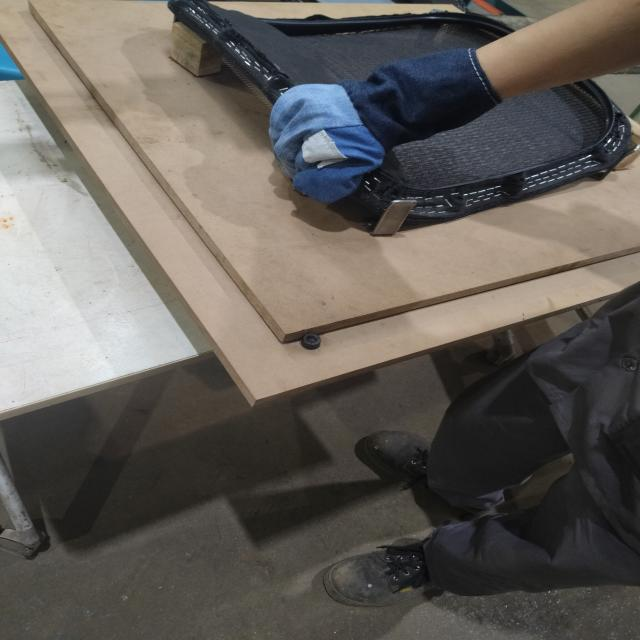Gloves-Detection: (264, 53, 482, 188)
